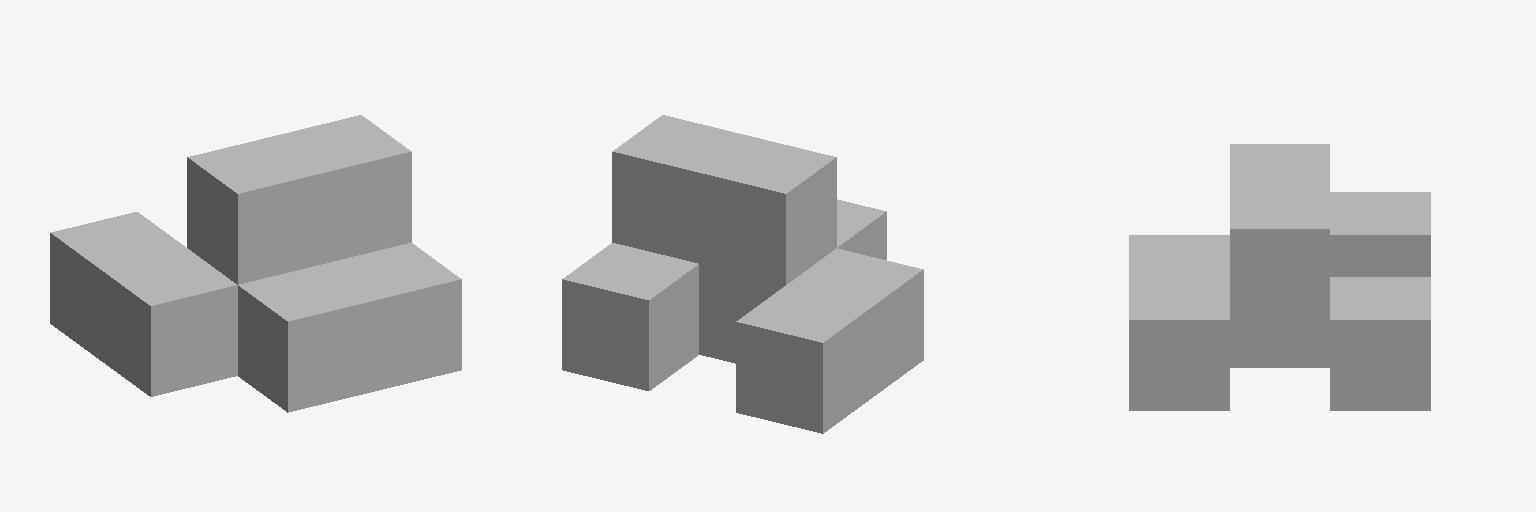
The model's file is buildingchunk3.obj.
3 renders of one model, left to right at view 1: azimuth 30°, elevation 25°; view 2: azimuth 150°, elevation 25°; view 3: azimuth 270°, elevation 25°, orthographic.
Visible parts, largest first — view 1: object 1; view 2: object 1; view 3: object 1.
Boxes of the visible parts, x1,y1,x2,y2 form: object 1: [50, 115, 461, 412]; object 1: [562, 115, 923, 433]; object 1: [1129, 144, 1430, 410].
Bounding box in the file's own units: 0.3 × 0.2 × 0.3.